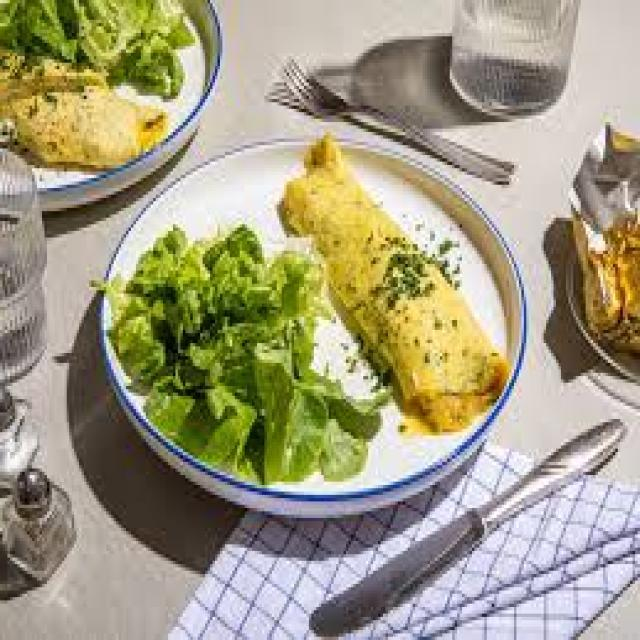telur_ayam_dadar: (282, 128, 512, 432)
